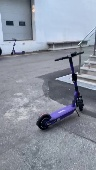beam: (34, 51, 87, 131), (8, 37, 28, 55)
